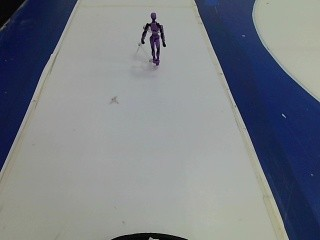pedestrian: (137, 10, 166, 69)
